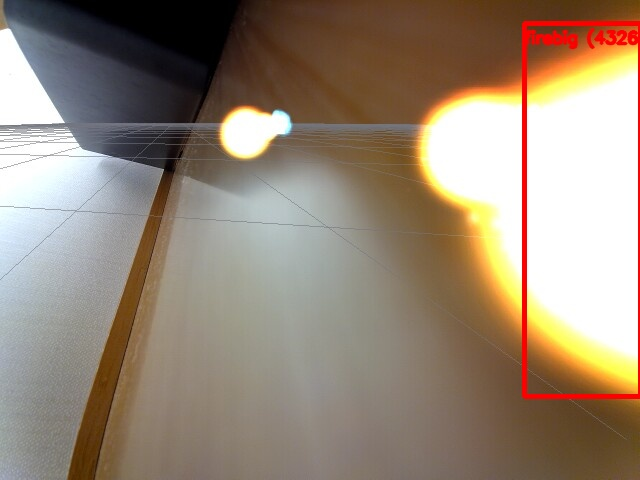firebig: (524, 23, 640, 396)
